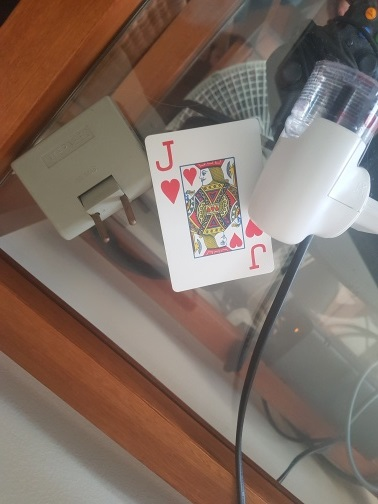jack: (145, 116, 276, 291)
